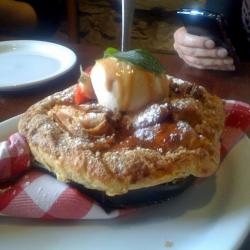apple_pie: (22, 70, 237, 199)
icecream: (92, 44, 175, 121)
